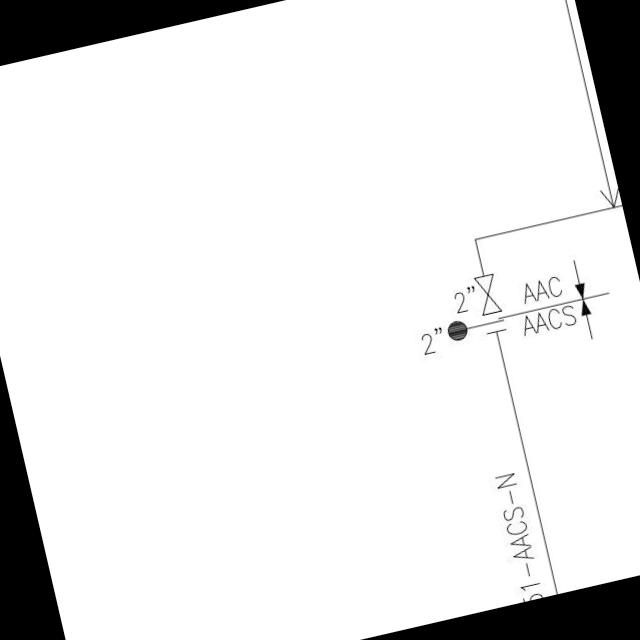GV: (468, 267, 508, 321)
